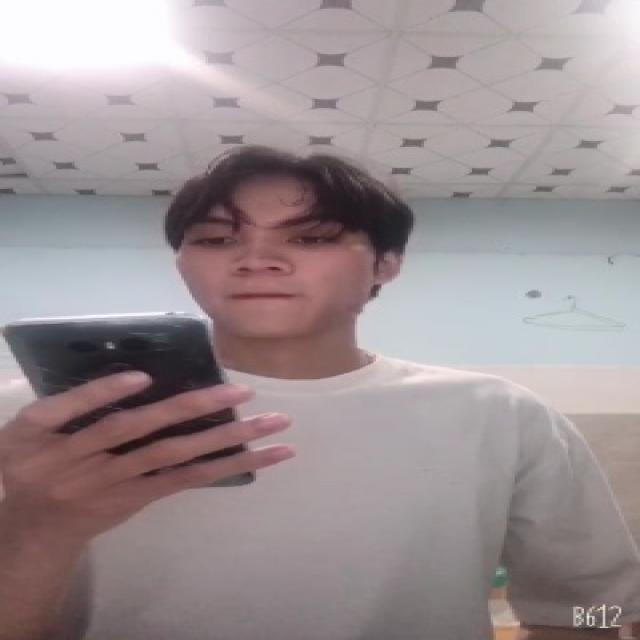Phone: (0, 314, 262, 493)
